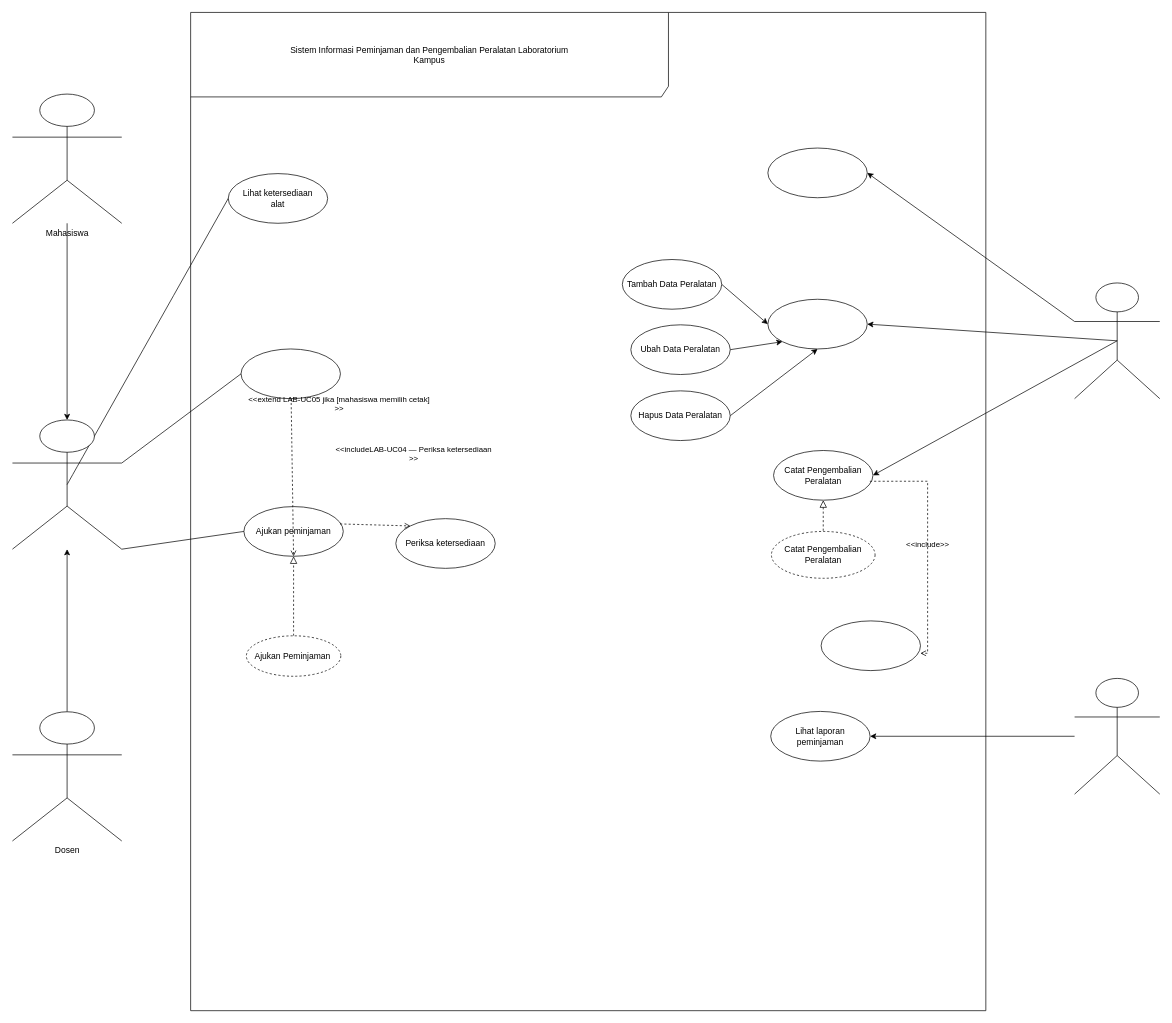
Image size: 1172x1023. Some labels were removed from this diagram. The shapes that lost their labels are listed below. From the top down, each one's box as (x1, y1, x2, y2) in pixels, then its label:
(767, 147, 867, 198): Proses Keputusan Peminjaman
(767, 299, 867, 349): Kelola data peralatan
(1074, 282, 1160, 399): Petugas Laboran
(240, 348, 340, 399): Cetak bukti pengajuan
(12, 419, 122, 549): Peminjam
(820, 620, 921, 671): Periksa Kondisi Peralatan
(1074, 678, 1160, 794): Kepala Laboran
